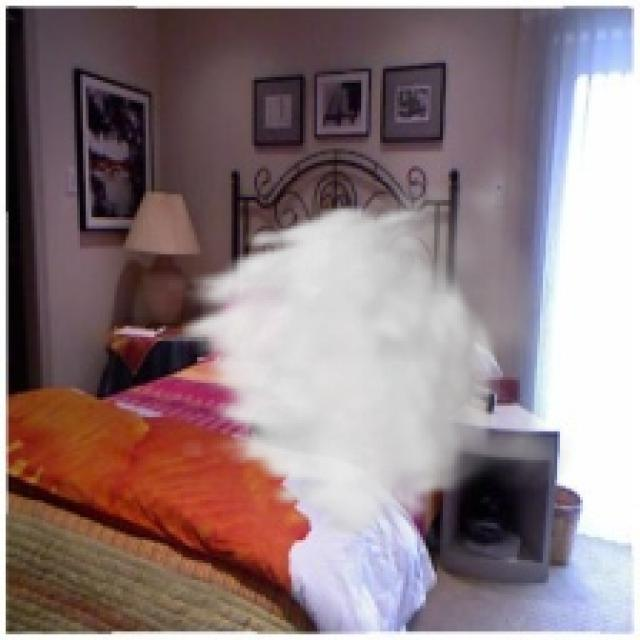smoke: (169, 131, 577, 540)
